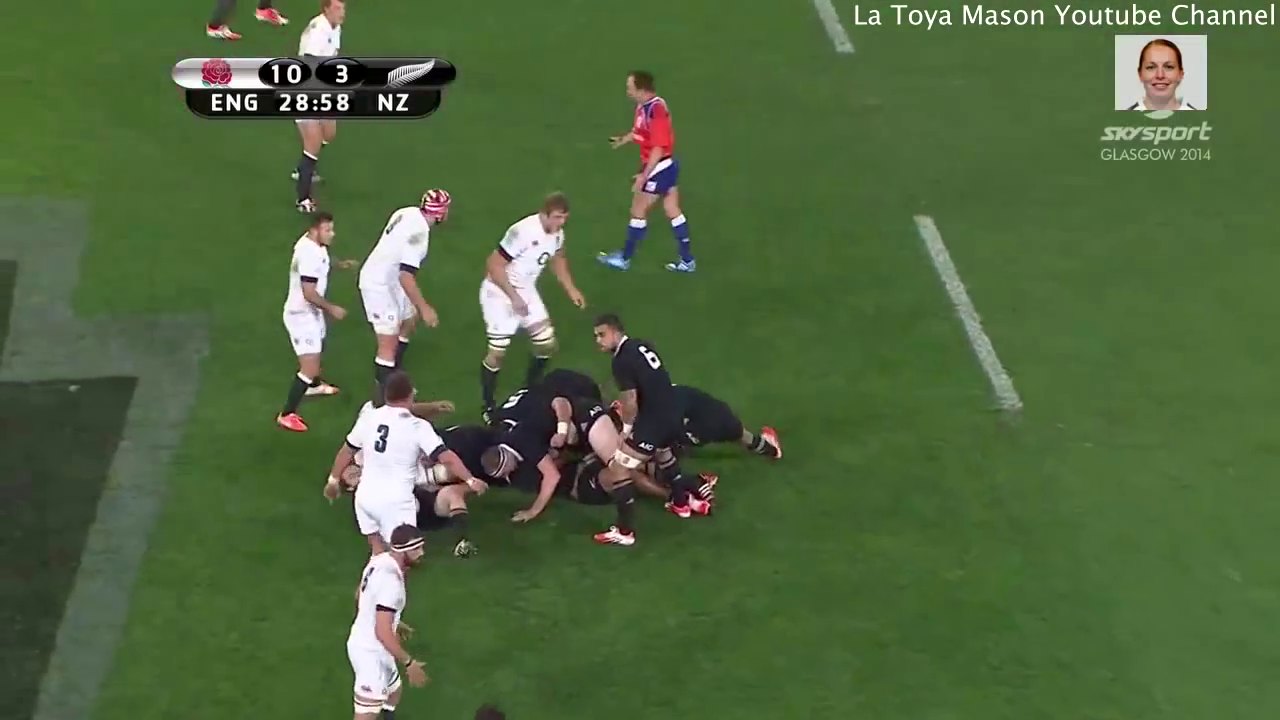player: (312, 380, 487, 580), (574, 311, 700, 549), (576, 66, 701, 285), (471, 187, 580, 413), (474, 360, 619, 524), (352, 177, 455, 399), (261, 204, 353, 444), (333, 520, 438, 720), (285, 1, 352, 214), (198, 1, 290, 44)
ruck: (399, 320, 761, 528)
